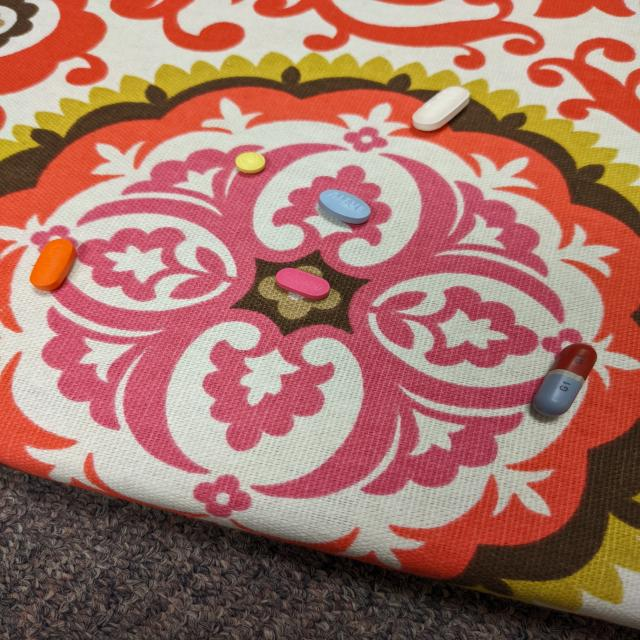non-organic waste: (530, 342, 598, 418), (411, 86, 472, 132), (28, 238, 78, 292), (317, 188, 372, 225), (275, 267, 331, 300), (234, 151, 266, 175)
